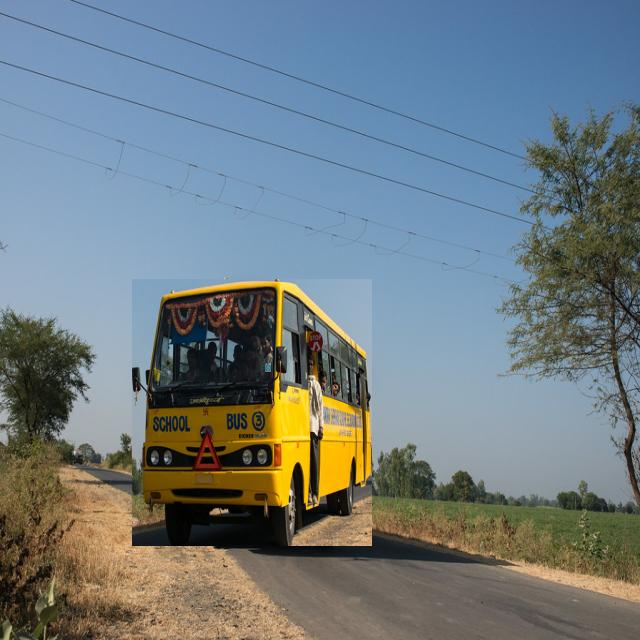bus: (132, 280, 371, 546)
